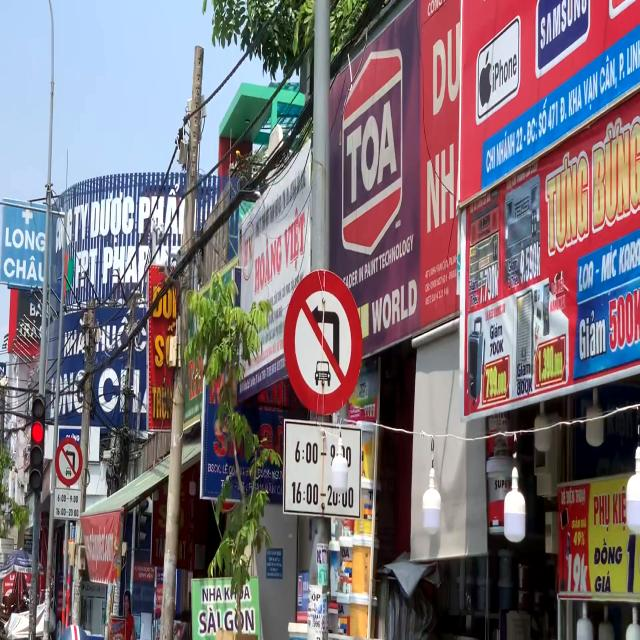P.103c: (283, 268, 363, 416), (55, 437, 83, 486)
